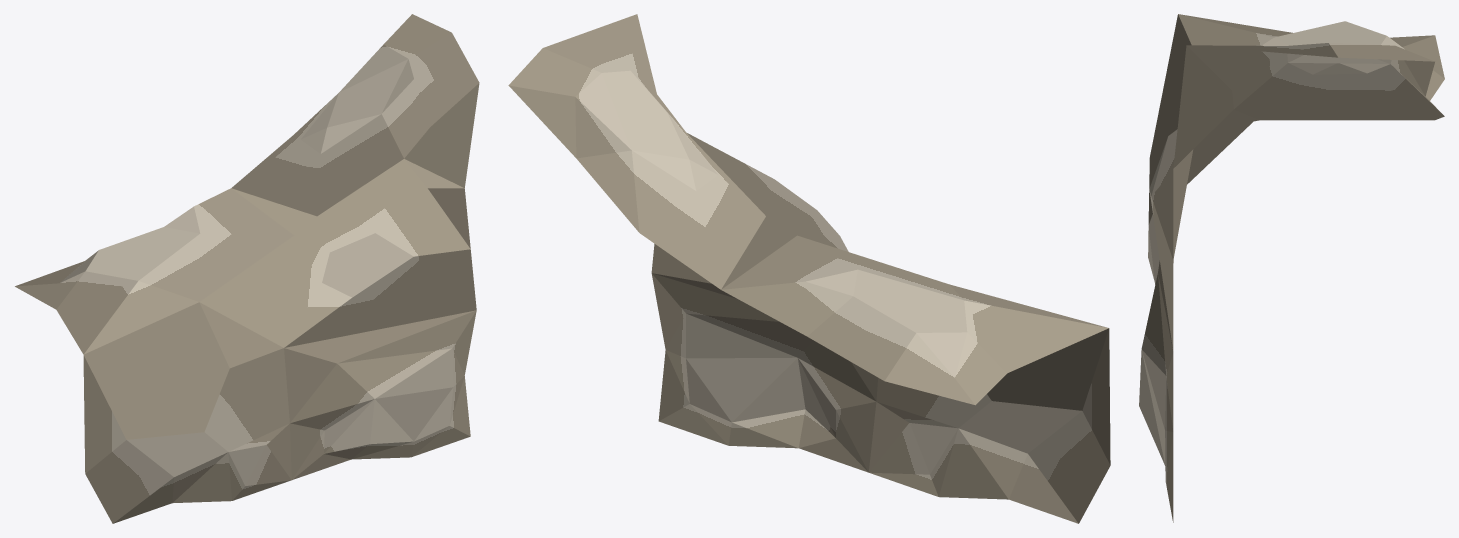
The model's file is PartOfCorner_SoftArch_01.fbx.
The picture shows the model from 3 angles, left to right: view 1: azimuth 30°, elevation 25°; view 2: azimuth 150°, elevation 25°; view 3: azimuth 270°, elevation 25°; orthographic projection. The views are drawn at different scales.
Parts seen in each view (by area): view 1: PartOfCorner_SoftArch_01; view 2: PartOfCorner_SoftArch_01; view 3: PartOfCorner_SoftArch_01.
Part boxes in pixels (x1,y1,x2,y2): PartOfCorner_SoftArch_01: [15, 14, 479, 523]; PartOfCorner_SoftArch_01: [508, 14, 1110, 523]; PartOfCorner_SoftArch_01: [1139, 14, 1444, 522].
Size of the model in its own units: 119 by 95.49 by 52.7.
1 material, 1 textured.
